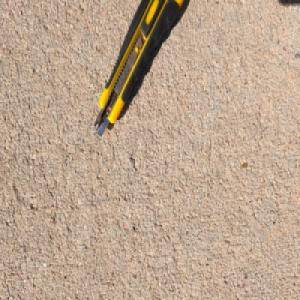Cutter: (92, 0, 186, 138)
